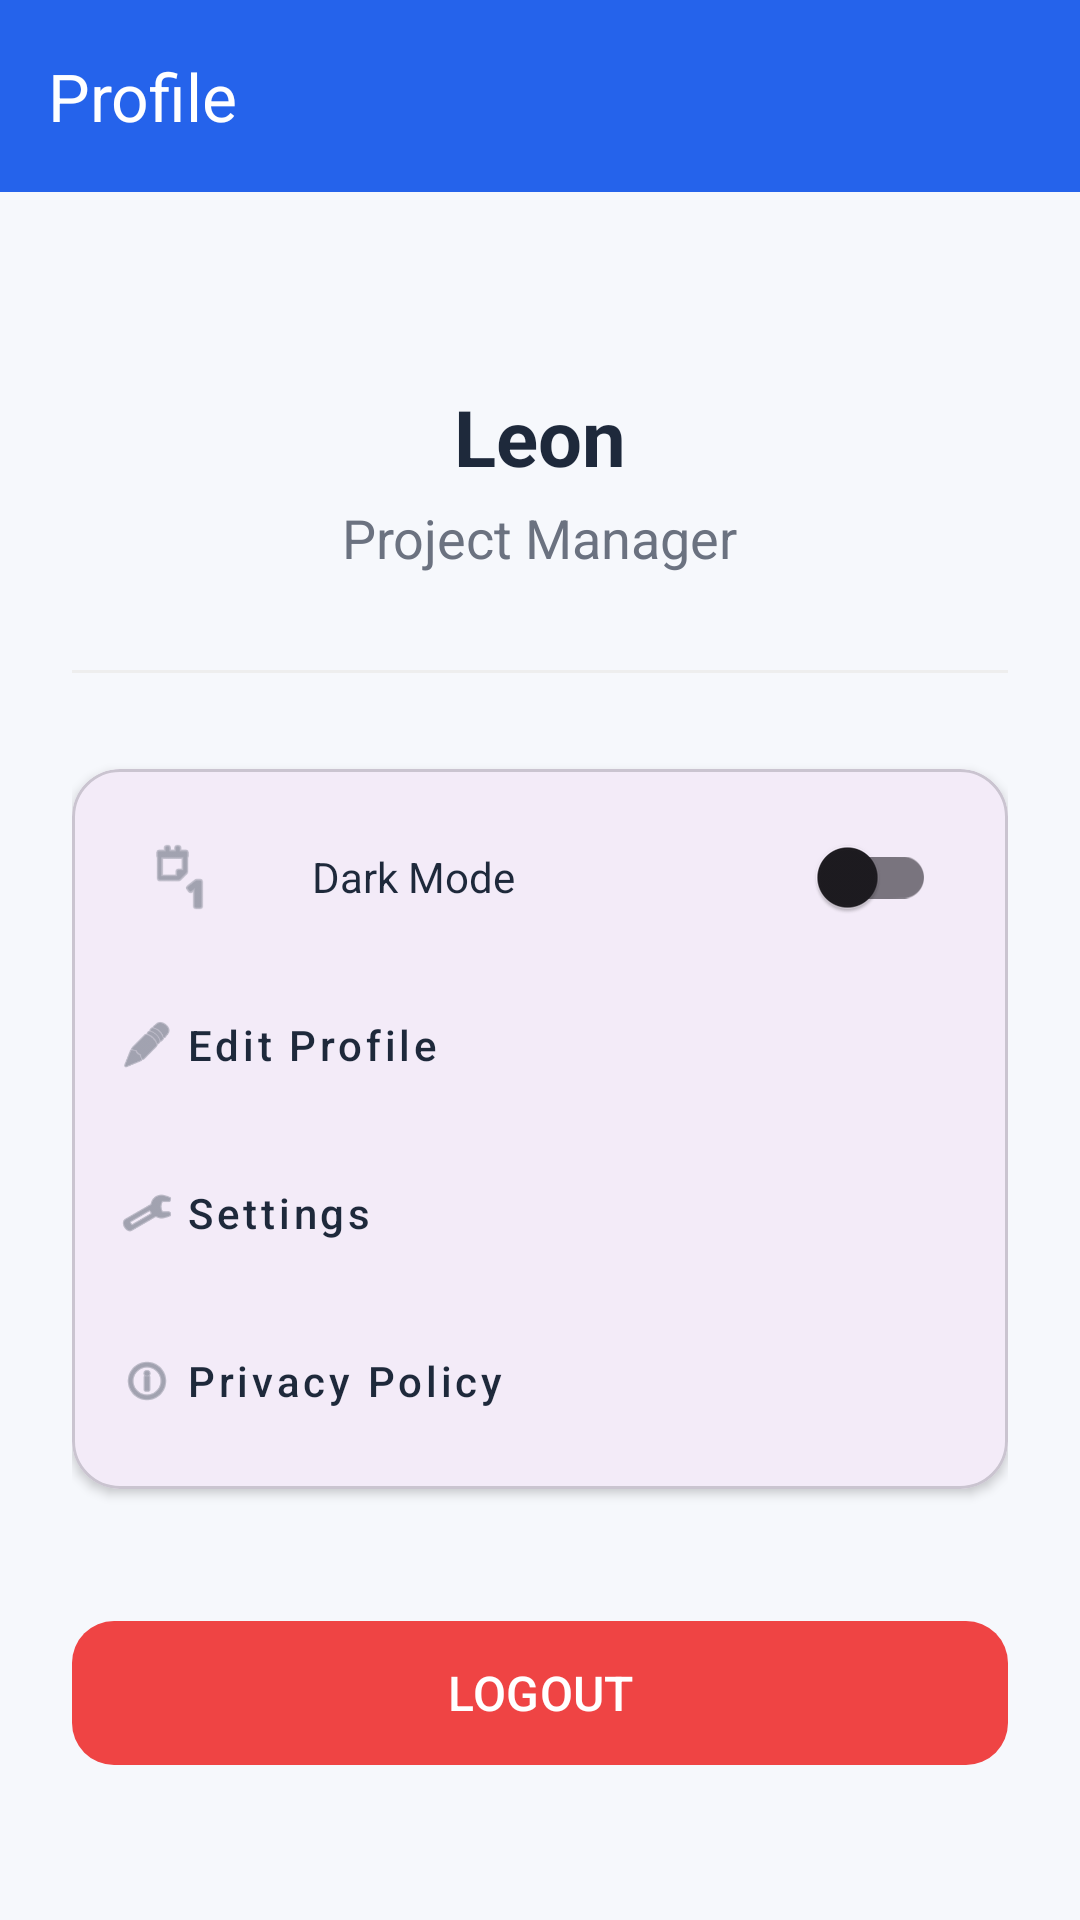

Where to tap for icons on this 1080*1920 app screen, as (x=x, y=y):
day: (x=179, y=877)
